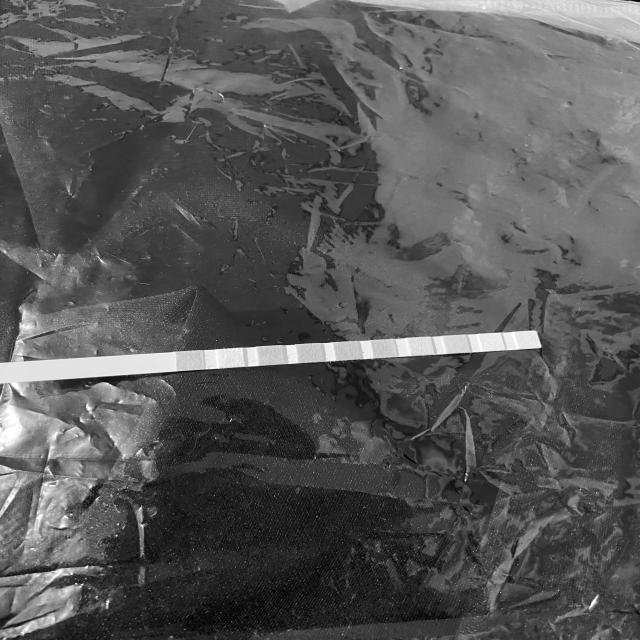Bilirubin: (218, 350, 243, 367)
Blood: (336, 342, 358, 360)
Glucose: (177, 352, 202, 370)
Ketone: (258, 346, 283, 364)
Leukocytes: (518, 332, 536, 348)
Nitrite: (482, 334, 501, 350)
Protein: (409, 338, 431, 355)
SpGravity: (298, 344, 321, 362)
Urobilinogen: (445, 336, 467, 352)
background: (0, 0, 640, 640)
pH: (373, 340, 394, 357)
strip: (0, 330, 542, 384)
